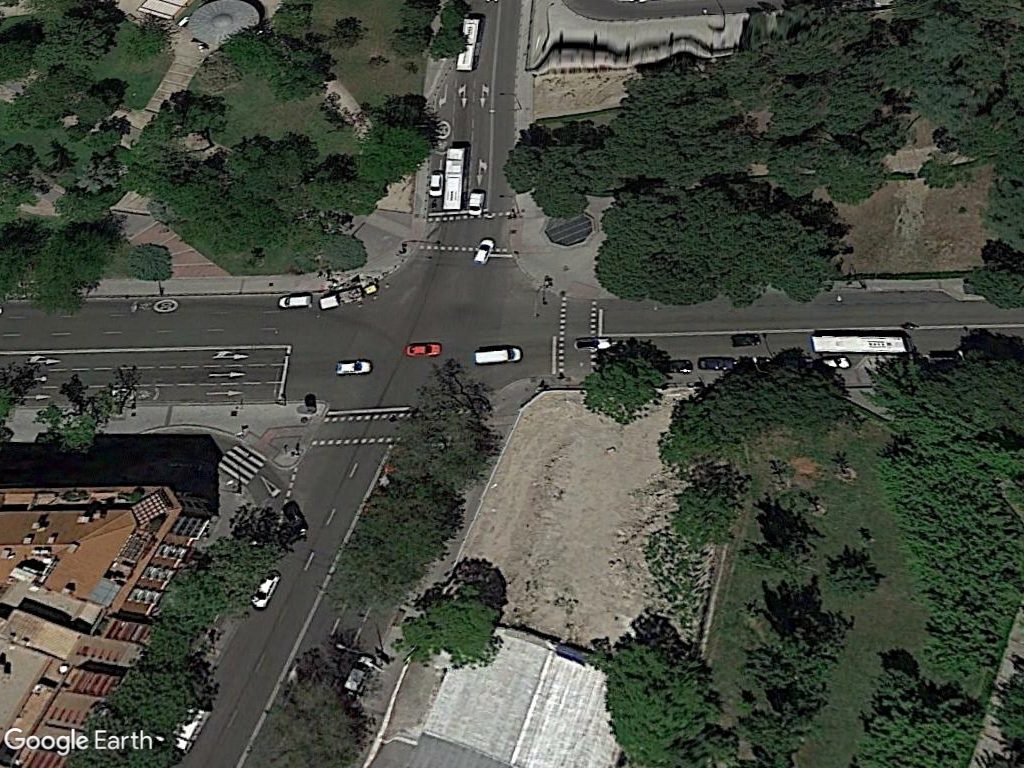bus: (808, 332, 912, 355), (441, 140, 466, 214)
car: (333, 358, 376, 376), (404, 340, 445, 358)
van: (472, 346, 525, 367), (277, 293, 317, 309)
